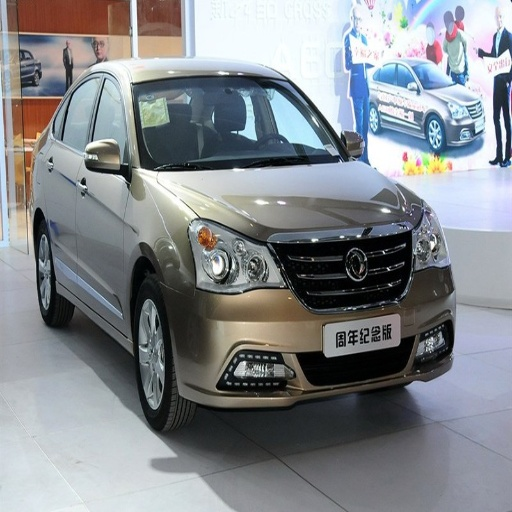front_bumper: (165, 227, 453, 408)
front_left_light: (414, 211, 448, 271)
front_right_door: (80, 71, 130, 323)
front_right_light: (189, 218, 285, 293)
hood: (155, 160, 426, 242)
